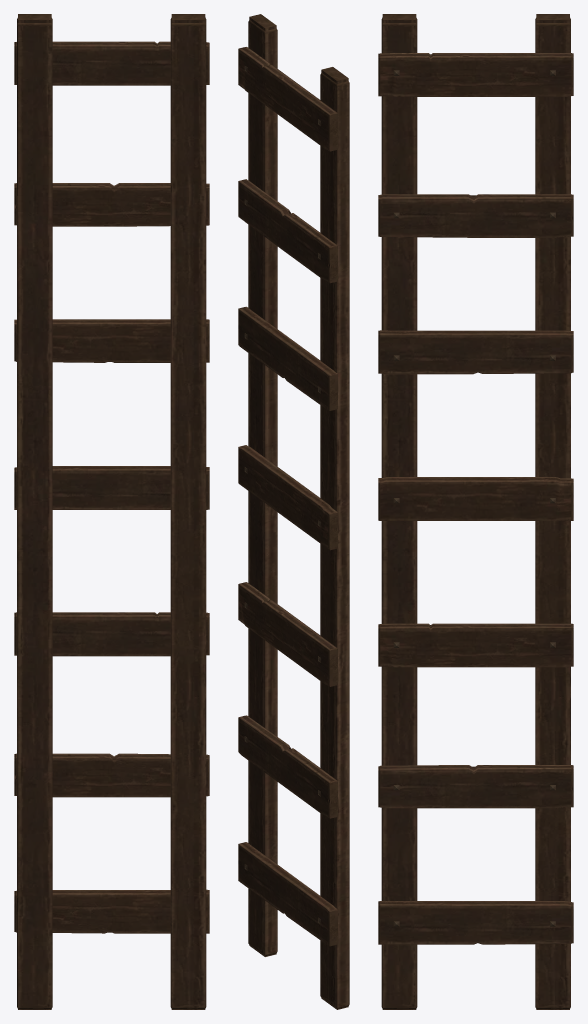
File: Ladder.glb
3 views of the same model, side by side, from view 1: azimuth 90°, elevation 25°; view 2: azimuth 210°, elevation 25°; view 3: azimuth 270°, elevation 25° (orthographic). The views are drawn at different scales.
Visible parts, largest first — view 1: Ladder; view 2: Ladder; view 3: Ladder.
Part boxes in pixels (box(x1,y1,x2,y2)): Ladder: box(14, 14, 209, 1009); Ladder: box(238, 14, 349, 1009); Ladder: box(378, 14, 573, 1009).
Size of the model in its own units: 0.1641 by 6.25 by 1.12.
Materials: 2 (2 with a texture image).
